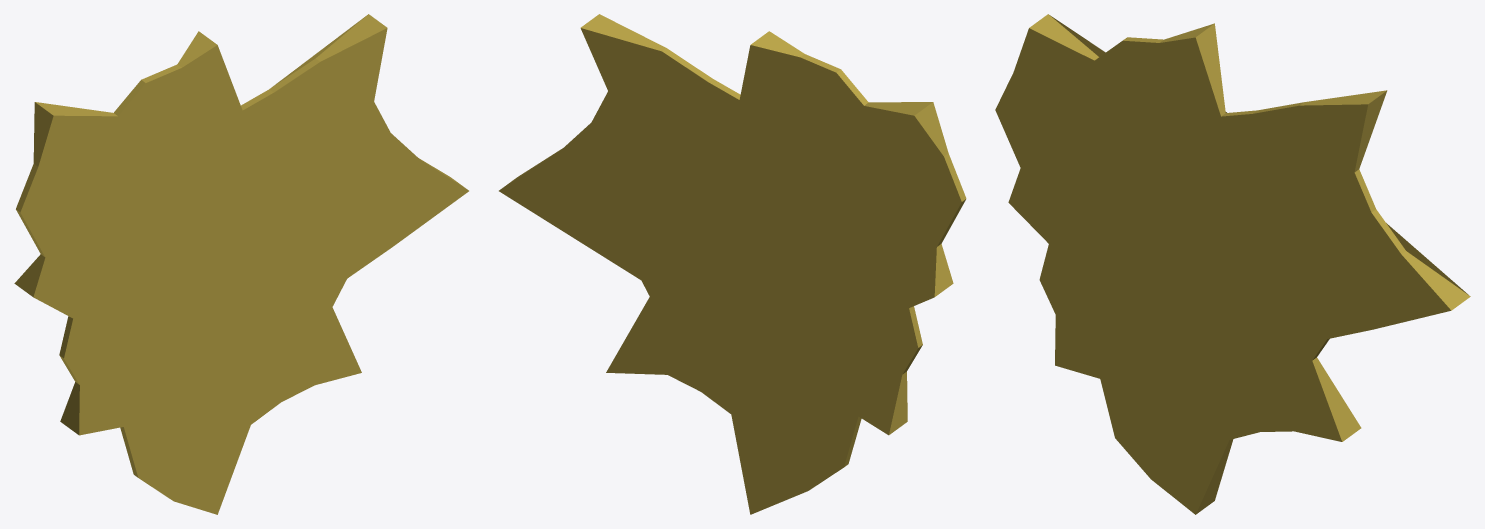
Rendered from Splash.fbx.
3 views of the same model, side by side, from view 1: azimuth 30°, elevation 25°; view 2: azimuth 150°, elevation 25°; view 3: azimuth 330°, elevation 25° (orthographic).
Parts seen in each view (by area): view 1: Splash; view 2: Splash; view 3: Splash.
Part boxes in pixels (x1=…): Splash: x1=14, y1=14, x2=468, y2=514; Splash: x1=499, y1=14, x2=966, y2=514; Splash: x1=995, y1=14, x2=1470, y2=514.
Size of the model in its own units: 1 by 1 by 0.073.
